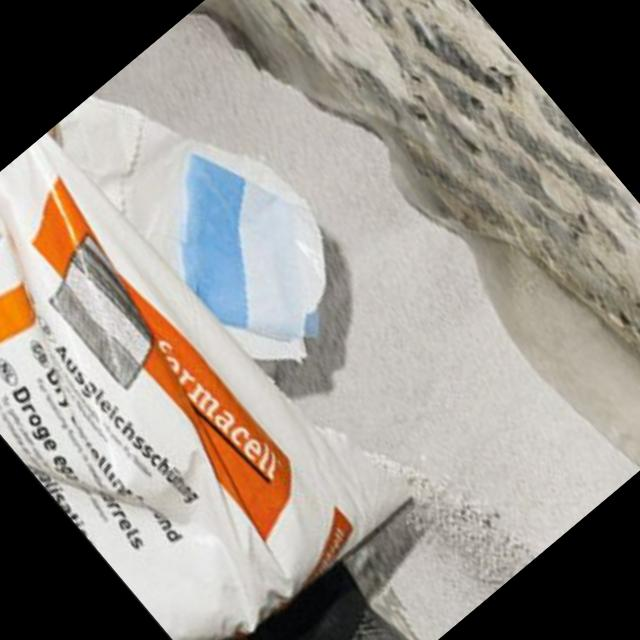KantongSemen: (0, 105, 422, 640)
